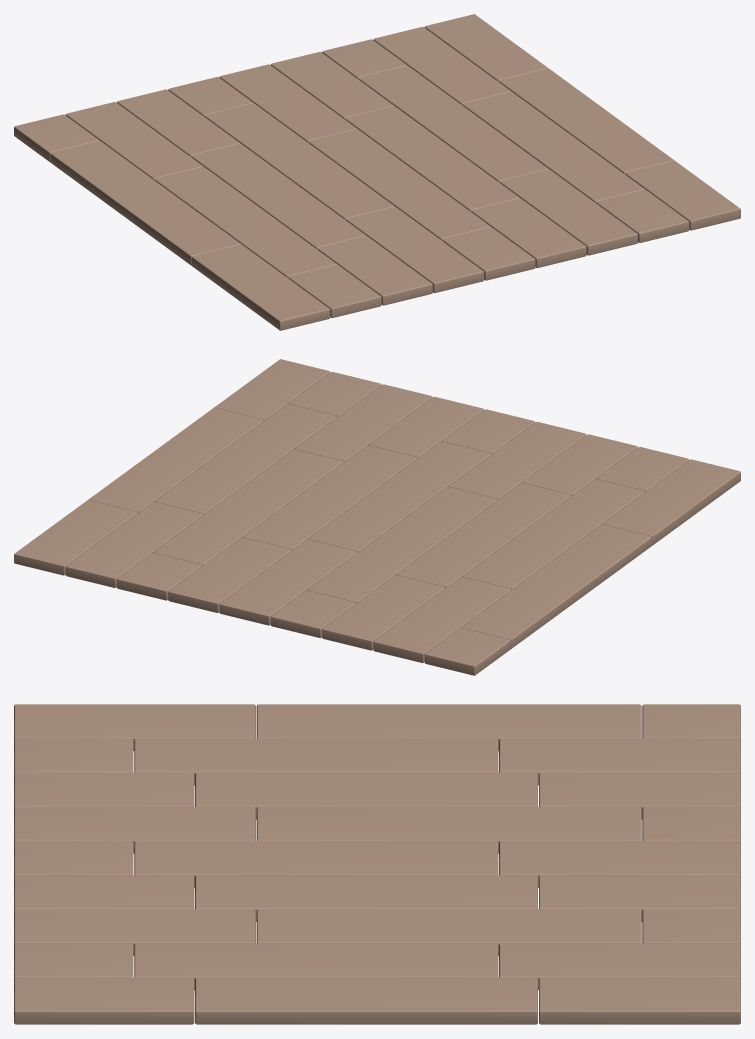
File: Floor_10.glb
The picture shows the model from 3 angles, top to bottom: view 1: azimuth 30°, elevation 25°; view 2: azimuth 150°, elevation 25°; view 3: azimuth 270°, elevation 25°; orthographic projection. The views are drawn at different scales.
Parts seen in each view (by area): view 1: Floor_10; view 2: Floor_10; view 3: Floor_10.
Part boxes in pixels (box(x1,y1,x2,y2)): Floor_10: box(14, 14, 740, 330); Floor_10: box(14, 359, 740, 675); Floor_10: box(14, 704, 740, 1024).
Size of the model in its own units: 4.6 by 0.1 by 4.6.
Materials: 1 (1 with a texture image).
